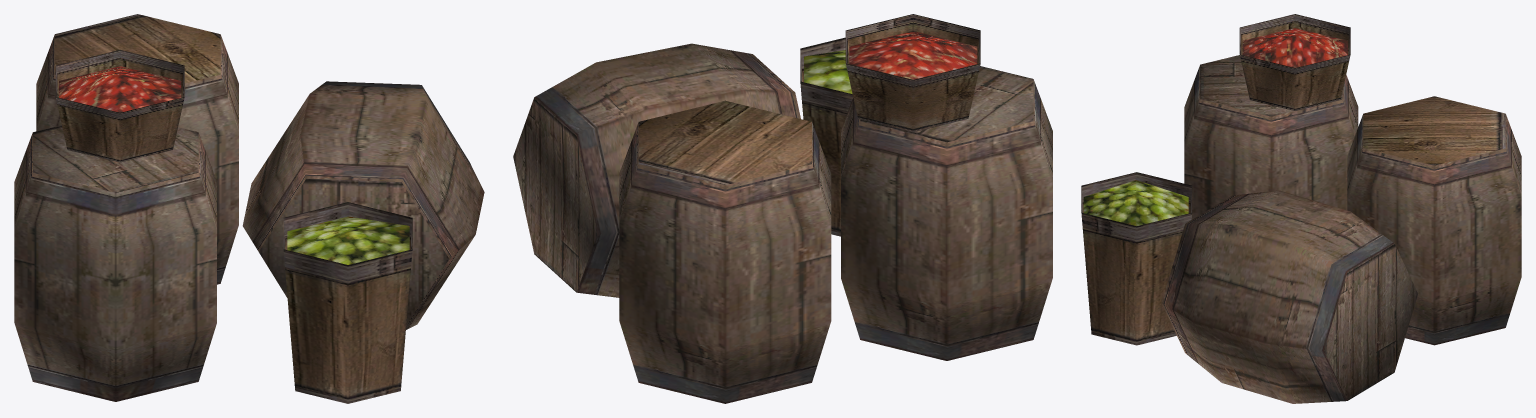
Rendered from w_etc01.glb.
3 renders of one model, left to right at view 1: azimuth 30°, elevation 25°; view 2: azimuth 150°, elevation 25°; view 3: azimuth 270°, elevation 25°, orthographic. The views are drawn at different scales.
Visible parts, largest first — view 1: w_etc01; view 2: w_etc01; view 3: w_etc01.
Part boxes in pixels (x1,y1,x2,y2): w_etc01: (14,14,484,403); w_etc01: (513,14,1052,403); w_etc01: (1081,14,1521,403).
Bounding box in the file's own units: 2.18 × 1.2 × 1.99.
Materials: 3 (3 with a texture image).
